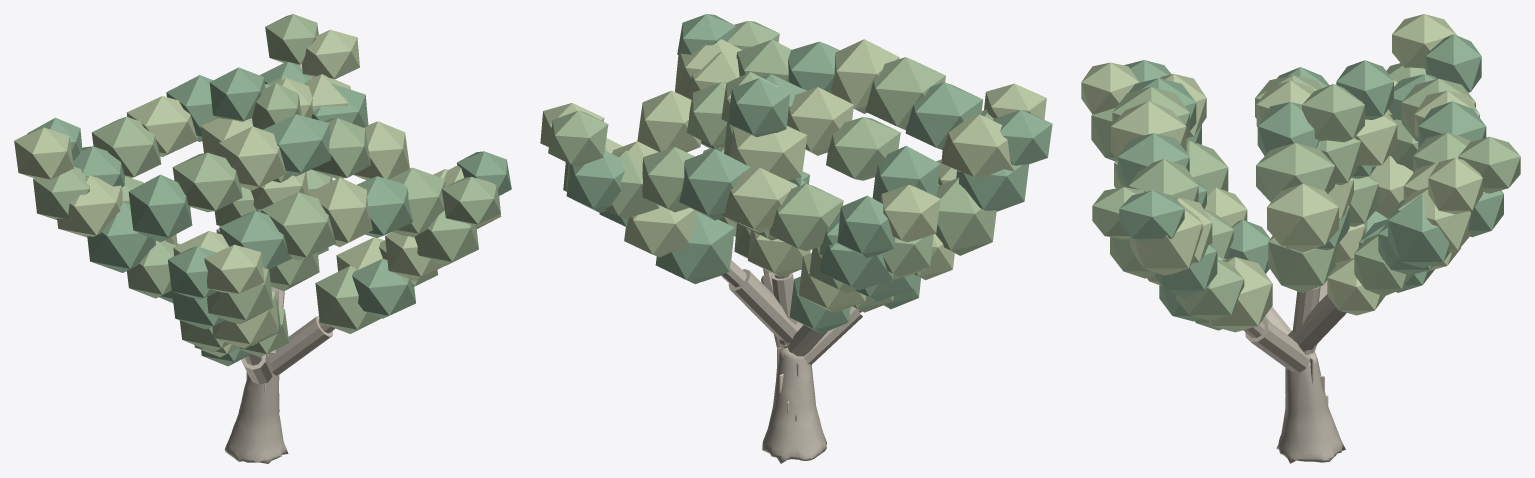
The model's file is plane-tree-d.glb.
3 views of the same model, side by side, from view 1: azimuth 30°, elevation 25°; view 2: azimuth 150°, elevation 25°; view 3: azimuth 270°, elevation 25° (orthographic). The views are drawn at different scales.
Parts seen in each view (by area): view 1: plane-tree-d; view 2: plane-tree-d; view 3: plane-tree-d.
Part boxes in pixels (<box>): plane-tree-d: <box>14,14,511,463</box>; plane-tree-d: <box>540,14,1052,463</box>; plane-tree-d: <box>1081,14,1520,463</box>.
Bounding box in the file's own units: 9.13 × 8.77 × 8.83.
